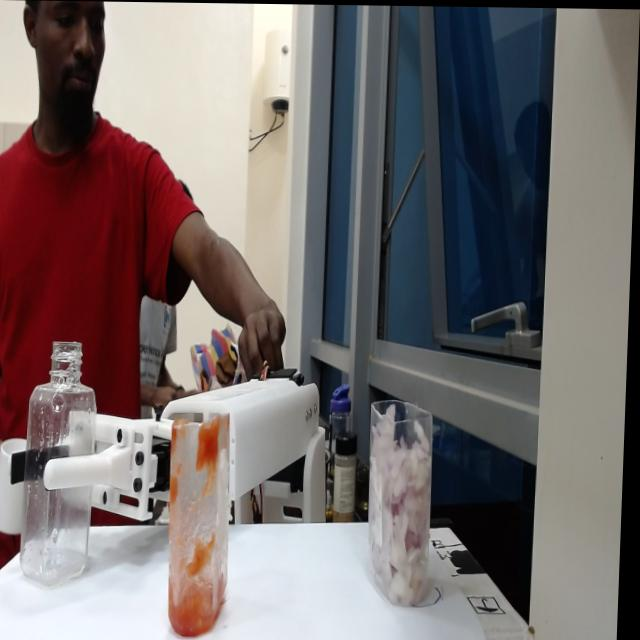blended_tomatoes_pepper: (171, 508, 233, 638)
sliced_onions: (370, 402, 436, 606)
